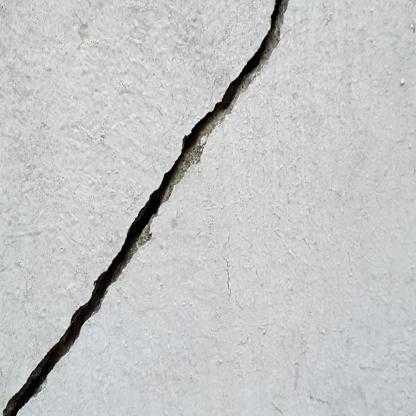crack: (2, 1, 289, 415)
